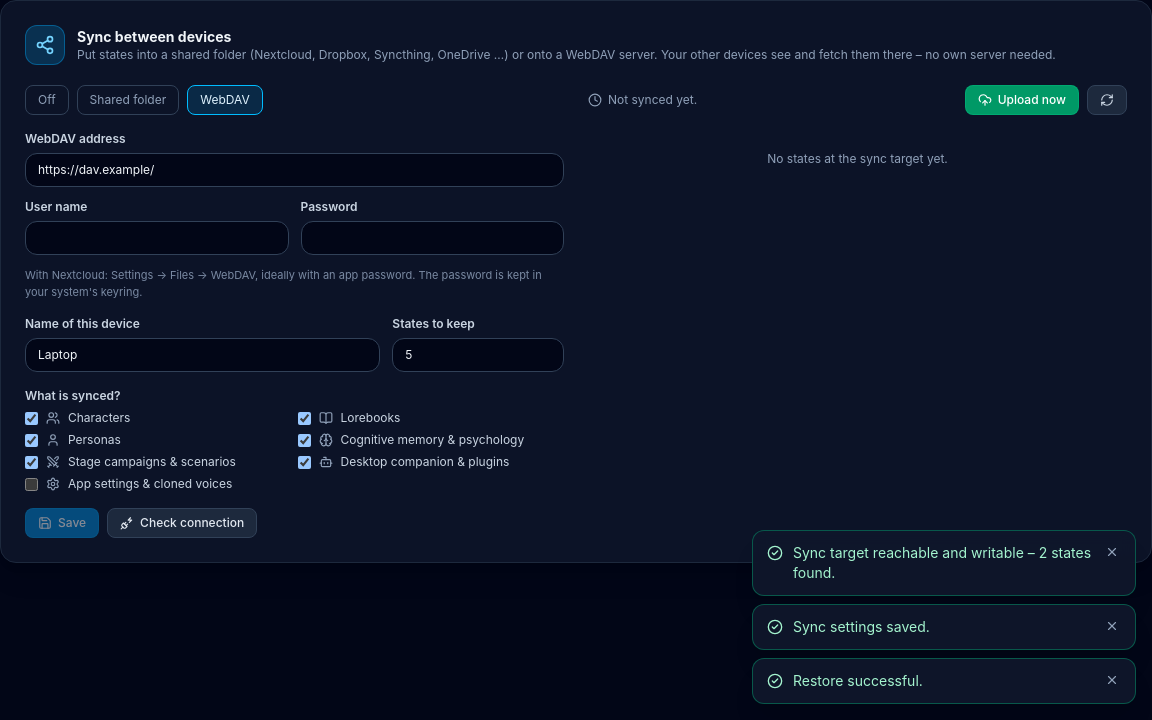
SyncPanel › uploads only after the target change was saved
Type "x" into the password field labelled "Password" at (432, 238), box [300, 221, 564, 255]
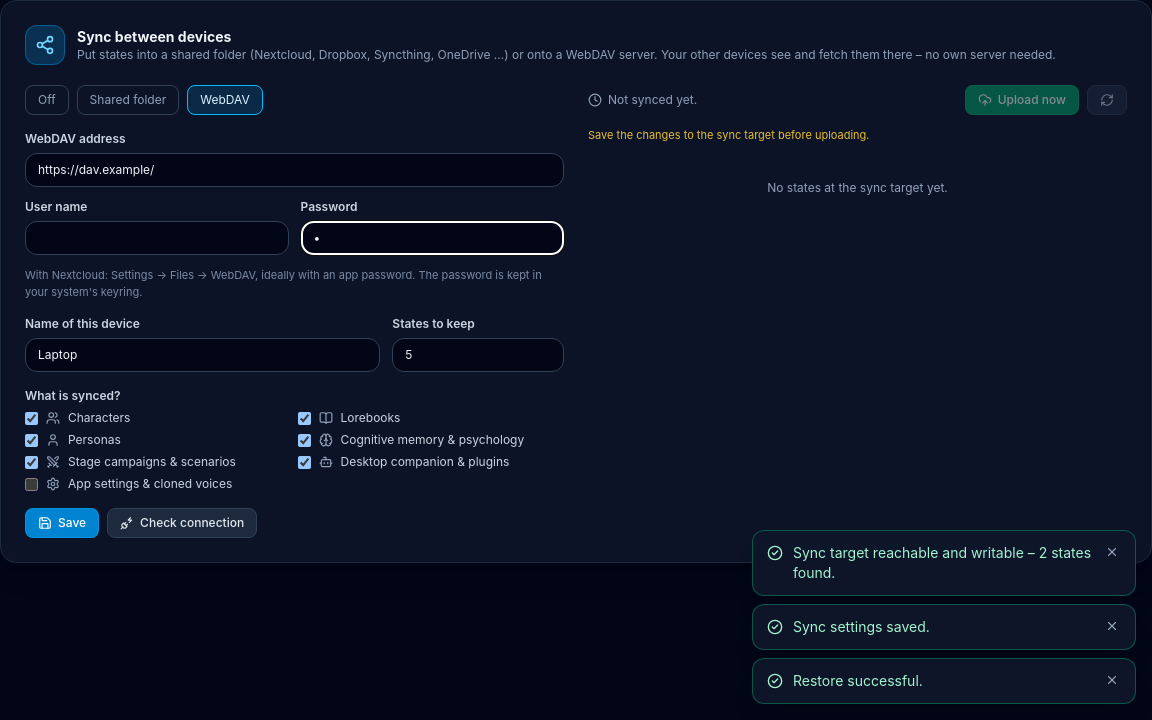
Result: the button "Upload now" is disabled at [965, 85, 1079, 115]
Result: the text "Save the changes to the sync target before uploading." is shown at [588, 128, 870, 142]
Clear the password field labelled "Password" at (432, 238), box [300, 221, 564, 255]
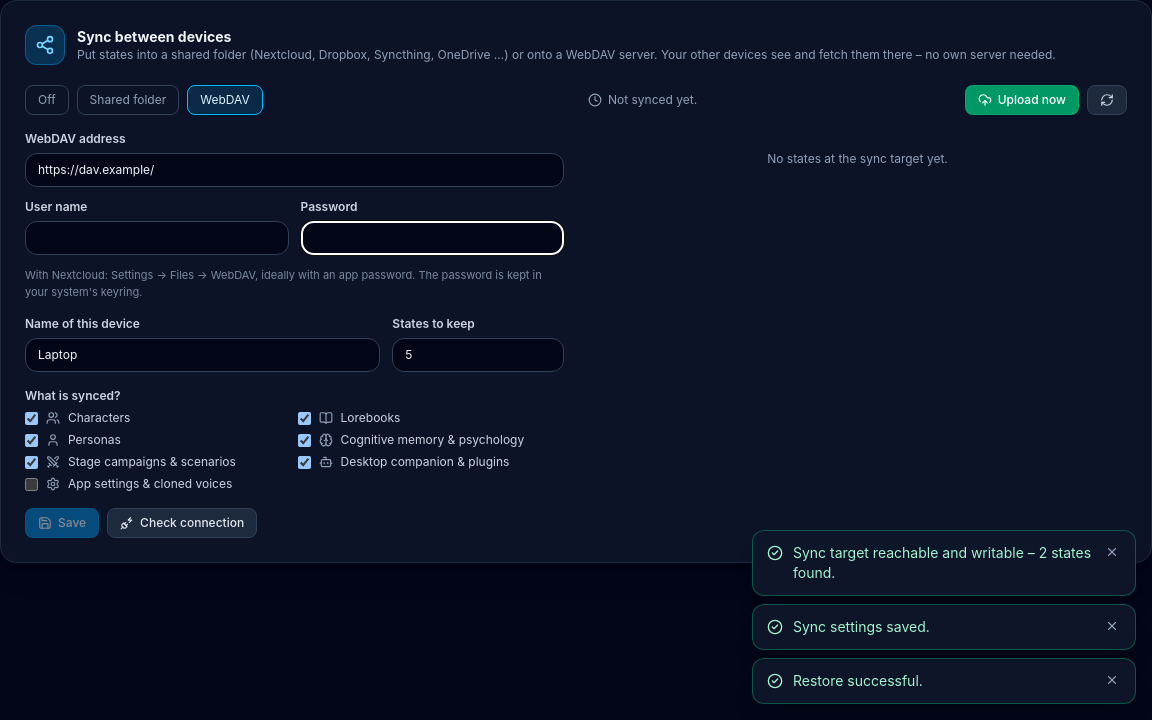
Result: the button "Upload now" is enabled
Click the button "Upload now" at (1022, 100), box [965, 85, 1079, 115]
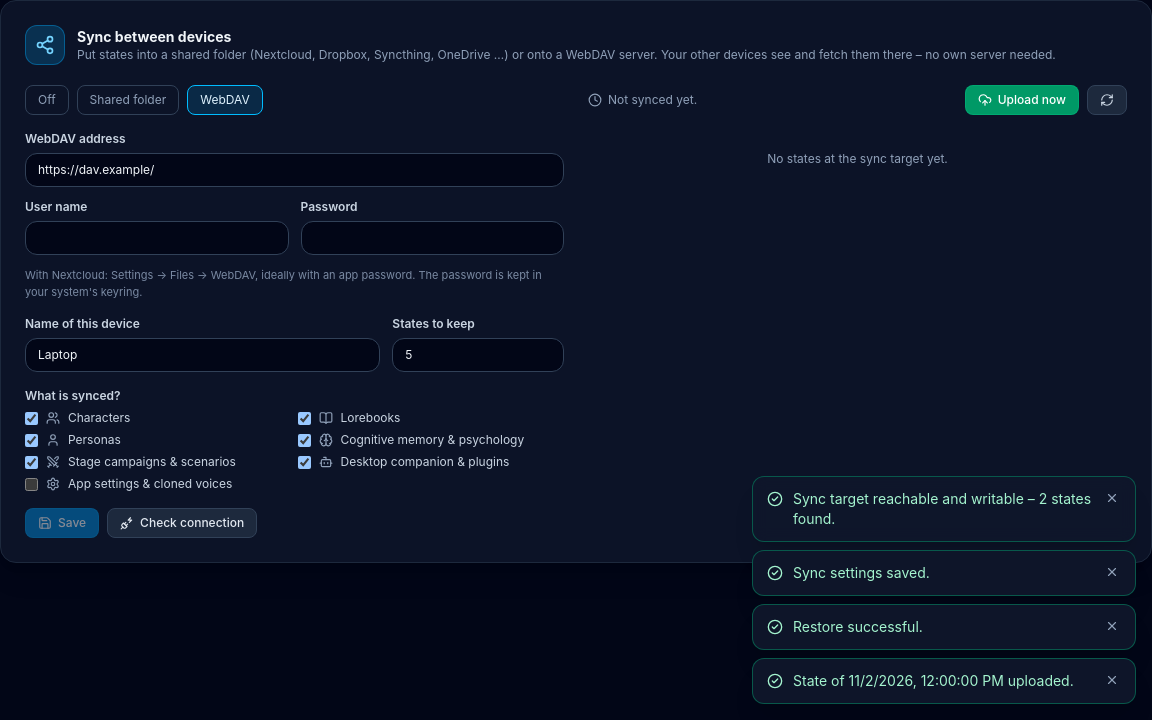
Result: the text "State of 11/2/2026, 12:00:00 PM uploaded." is shown at [793, 671, 1093, 691]
